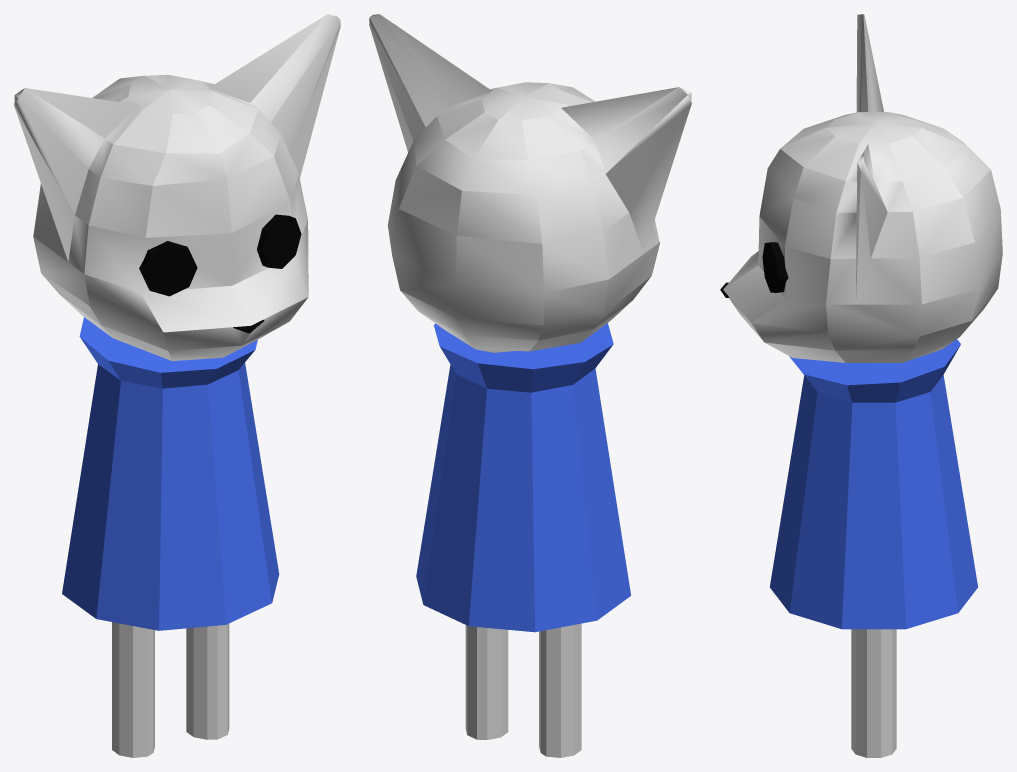
Rendered from cat.glb.
3 renders of one model, left to right at view 1: azimuth 30°, elevation 25°; view 2: azimuth 150°, elevation 25°; view 3: azimuth 270°, elevation 25°, orthographic. The views are drawn at different scales.
Visible parts, largest first — view 1: HEAD, CLOTH, LEGS, EYES; view 2: HEAD, CLOTH, LEGS; view 3: HEAD, CLOTH, LEGS, EYES.
Part boxes in pixels (x1,y1,x2,y2): HEAD: (14,14,340,360); CLOTH: (62,317,279,630); LEGS: (112,622,229,757); EYES: (139,214,301,296); HEAD: (369,14,691,352); CLOTH: (416,323,630,632); LEGS: (465,623,581,757); HEAD: (723,14,1002,362); CLOTH: (770,339,977,629); LEGS: (851,629,896,757); EYES: (762,242,788,292).
Size of the model in its own units: 0.7687 by 1.56 by 0.6149.
